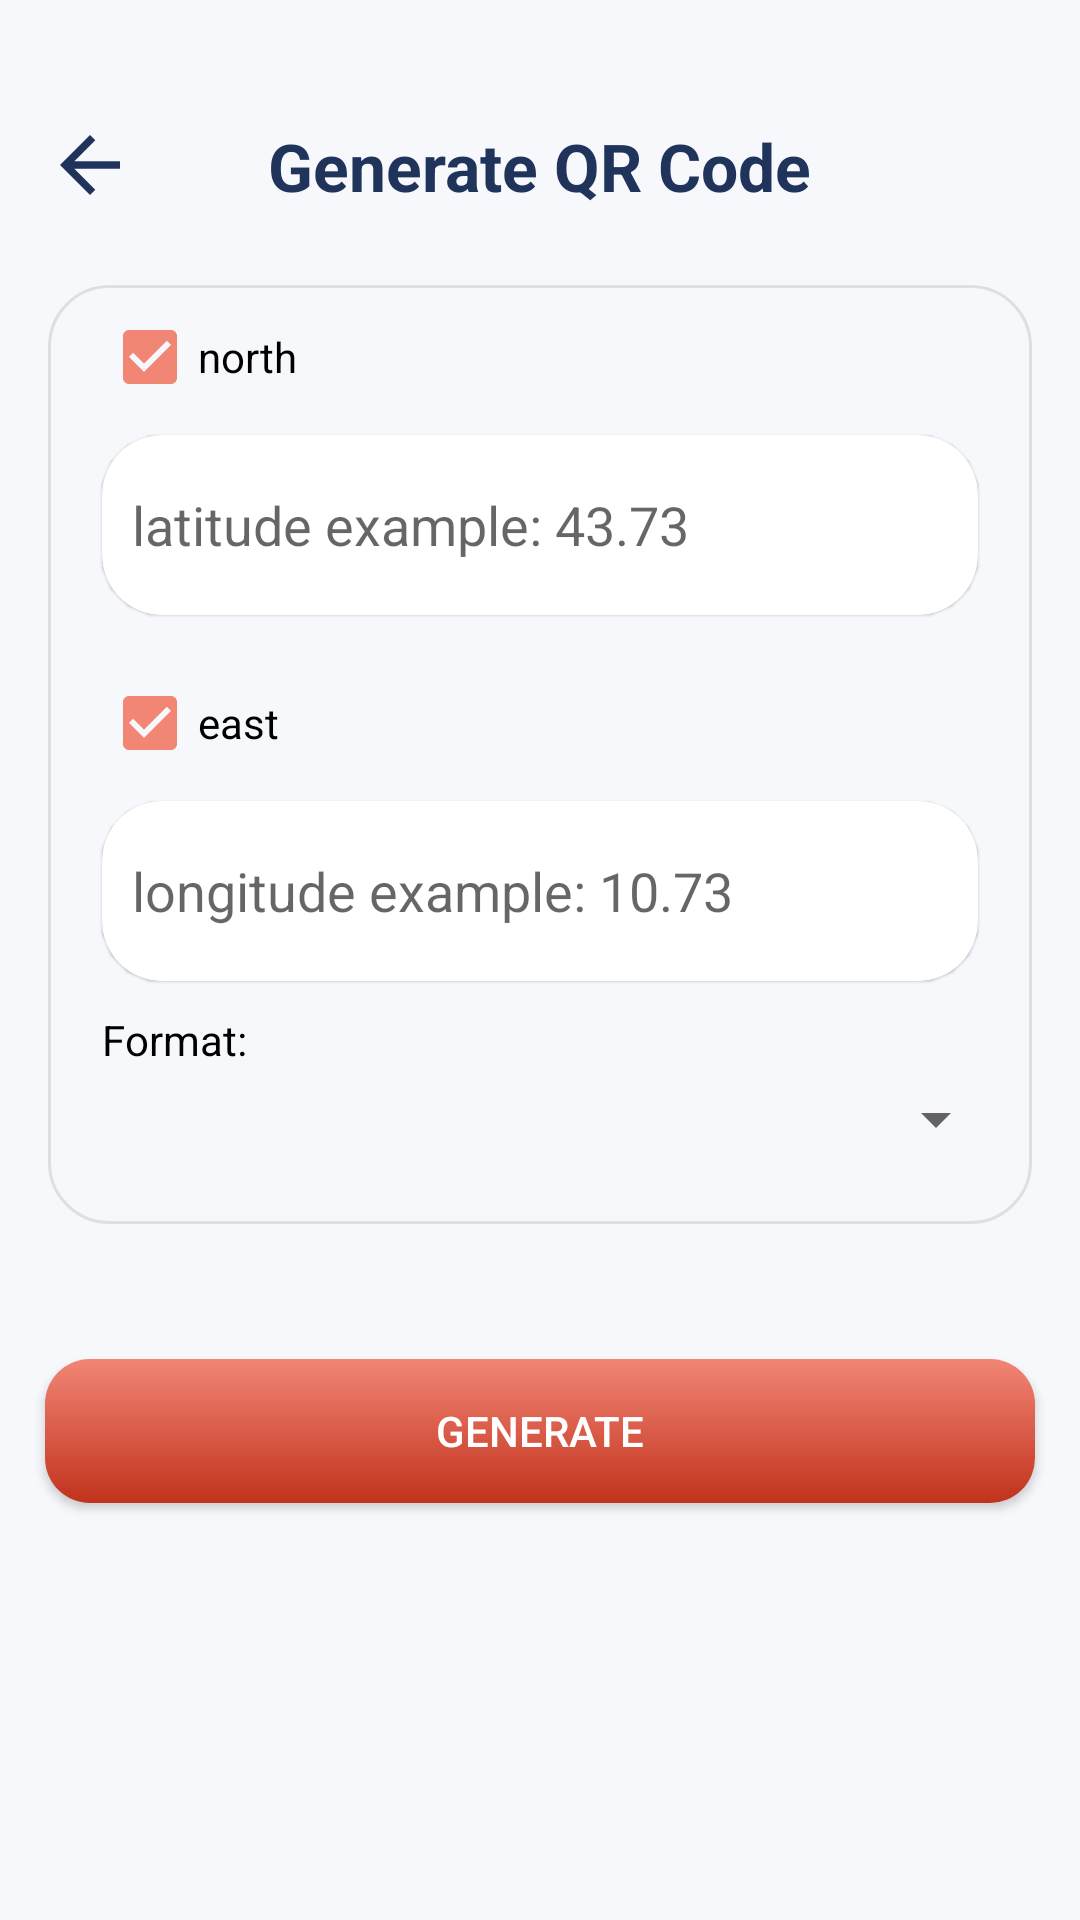

Icon click points for this 1080*1920 phone screenshot, format (x=x, y=y):
arrow: (x=90, y=165)
